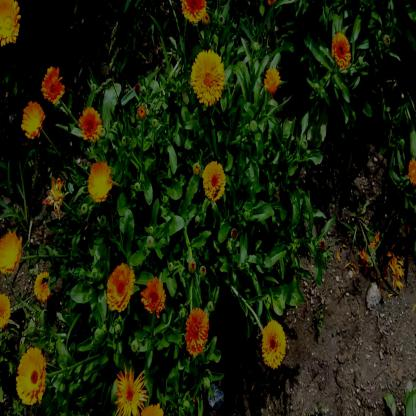marigold: (191, 52, 224, 104), (15, 347, 45, 403), (112, 366, 146, 411), (107, 264, 134, 312), (261, 321, 287, 365), (182, 310, 206, 352), (0, 4, 22, 49), (88, 160, 112, 201), (142, 278, 166, 317), (202, 160, 225, 199), (1, 231, 21, 274), (20, 100, 44, 134), (78, 105, 102, 138), (330, 32, 352, 66), (41, 68, 63, 102), (0, 294, 11, 328)
